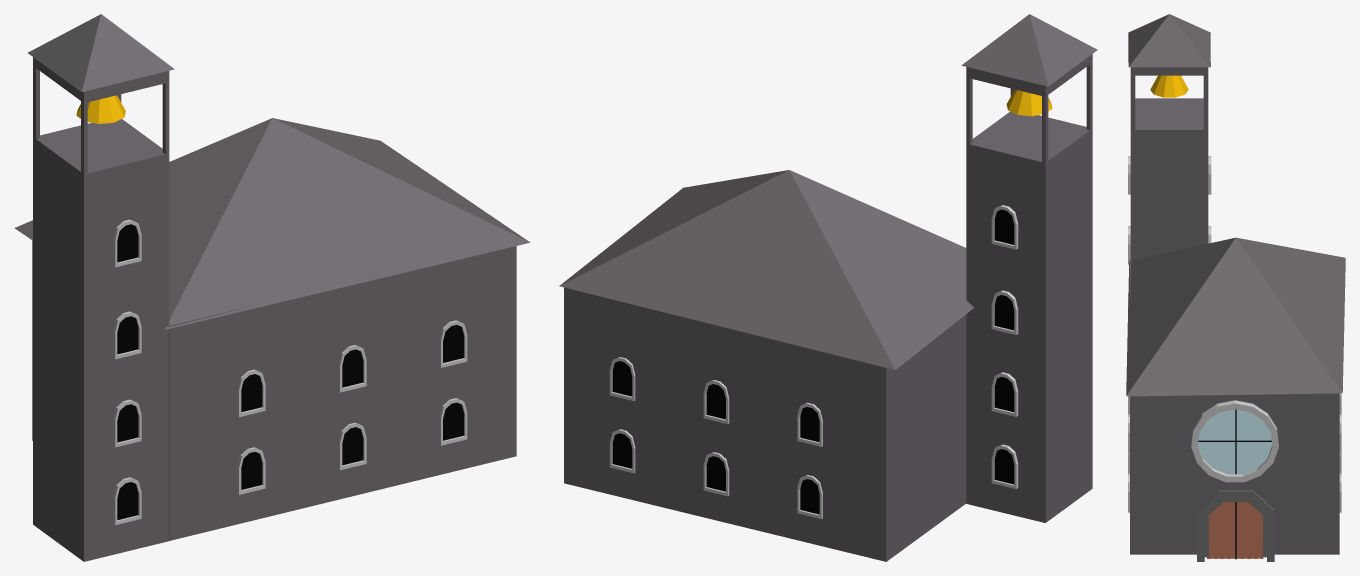
The model's file is Iglesia.fbx.
3 renders of one model, left to right at view 1: azimuth 30°, elevation 25°; view 2: azimuth 150°, elevation 25°; view 3: azimuth 270°, elevation 25°, orthographic. The views are drawn at different scales.
Parts seen in each view (by area): view 1: Cube, Cube.001, Cone, Cone.001, Cone.002, Cube.023, Cube.003, Cube.005, Cube.007, Cube.025, Cube.009, Cube.017 (+3 smaller); view 2: Cube, Cone, Cube.001, Cone.001, Cone.002; view 3: Cone, Cube, Cube.001, Cone.001, Cylinder.001, Cube.042, Puerta, Cylinder, Cone.002.
Boxes of the visible parts, x1,y1,x2,y2 form: Cube: (32,240,516,540); Cube.001: (33,57,169,561); Cone: (14,118,529,329); Cone.001: (28,14,174,91); Cone.002: (76,95,125,123); Cube.023: (342,349,363,387); Cube.003: (117,224,138,262); Cube.005: (117,316,138,354); Cube.007: (117,404,138,442); Cube.025: (342,427,363,465); Cube.009: (117,482,138,519); Cube.017: (241,452,262,489); Cube: (564,287,966,561); Cone: (559,170,974,369); Cube.001: (966,54,1092,522); Cone.001: (961,14,1097,86); Cone.002: (1006,89,1052,116); Cone: (1126,237,1345,396); Cube: (1130,261,1339,554); Cube.001: (1130,67,1208,261); Cone.001: (1128,14,1210,67); Cylinder.001: (1198,409,1272,474); Cube.042: (1207,502,1263,558); Puerta: (1197,490,1274,561); Cylinder: (1191,400,1278,482); Cone.002: (1150,75,1188,97).
Bounding box in the file's own units: 298 × 335 × 166.
